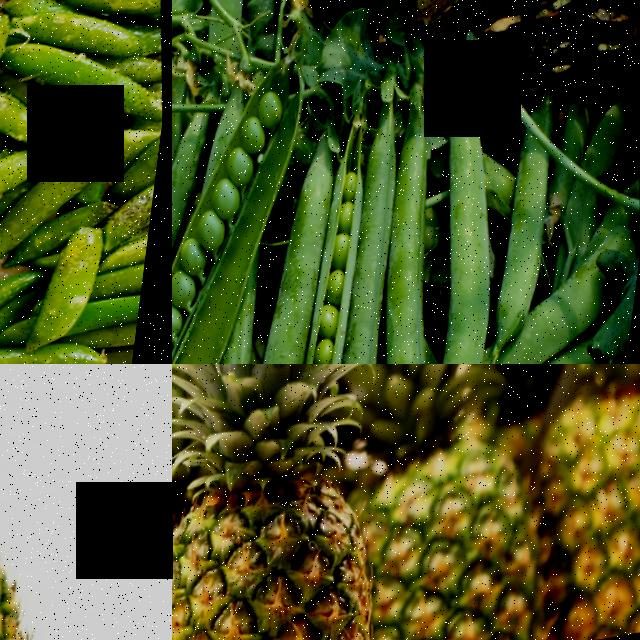peas: (270, 180, 406, 364), (172, 171, 263, 318), (224, 87, 300, 191)
pineapple: (353, 373, 588, 640), (172, 418, 419, 640), (513, 364, 640, 640), (0, 370, 101, 640)
